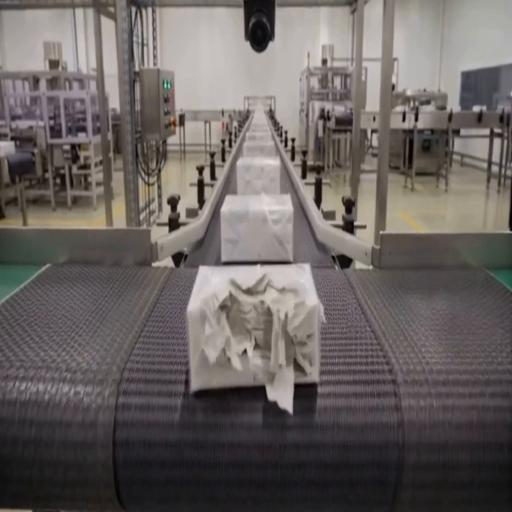defective: (187, 260, 323, 398)
good: (220, 192, 294, 265), (236, 156, 282, 196), (242, 134, 276, 158), (244, 124, 272, 142), (248, 107, 271, 125), (254, 101, 266, 113)
